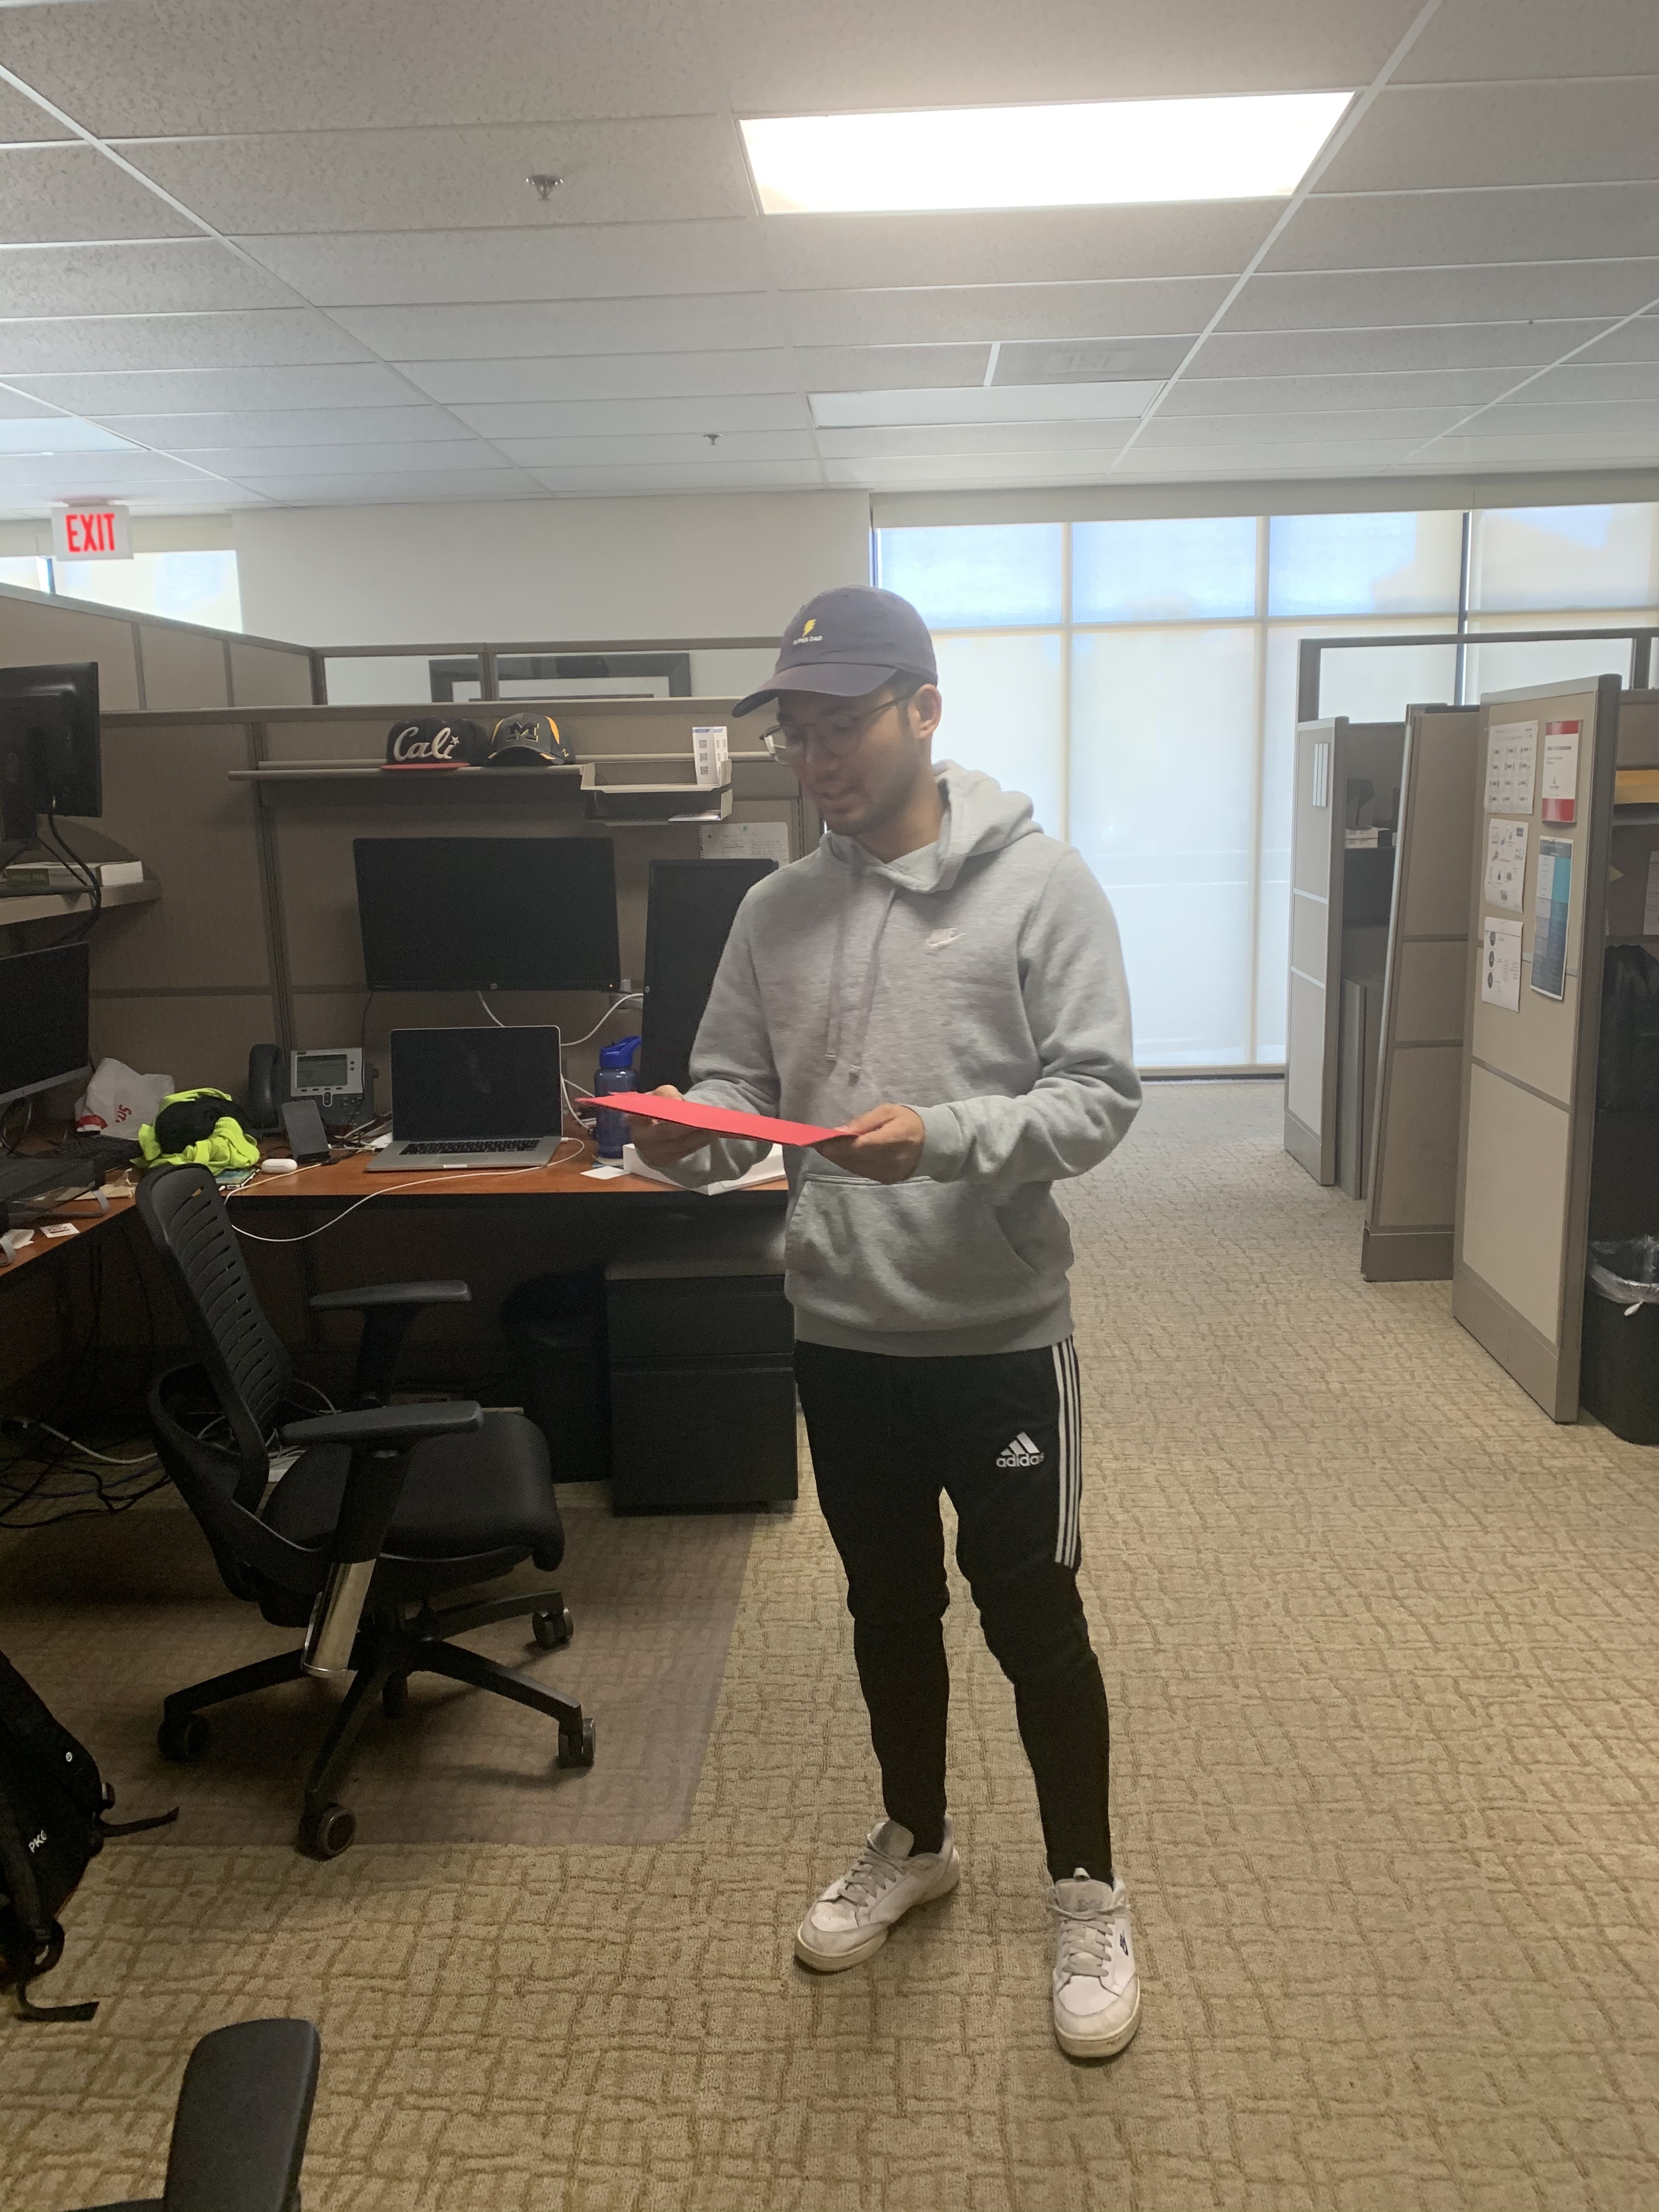red folder: (561, 1062, 870, 1186)
